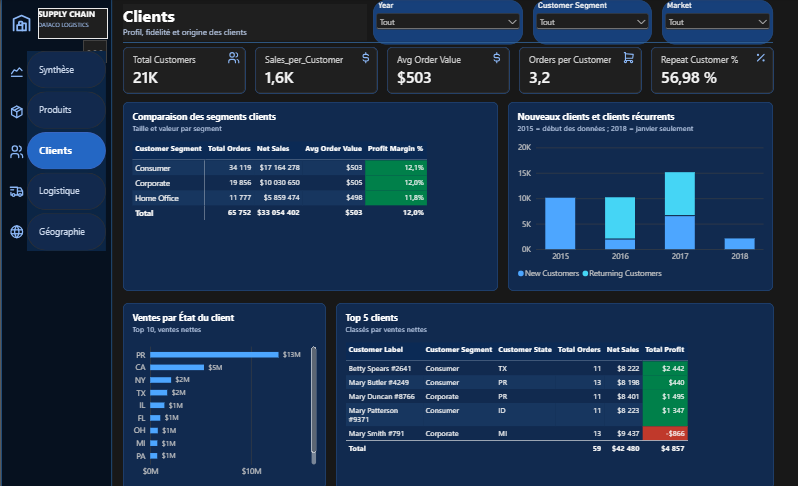

The dashboard page shown, as its layout file describes it:
{"tool":"powerbi","page":{"name":"Clients","canvas":[1440,900],"ordinal":2},"visuals":[{"type":"shape","box":[0,0,200,900],"z":0},{"type":"textbox","box":[66,18,126,56],"z":1000},{"type":"pageNavigator","box":[46,96,142,360],"z":2000},{"type":"textbox","box":[220,10,438.8,66],"z":4000},{"type":"image","box":[14,118,28,28],"z":4000},{"type":"image","box":[14,190,28,28],"z":4000},{"type":"image","box":[14,262,28,28],"z":4000},{"type":"image","box":[14,334,28,28],"z":4000},{"type":"image","box":[14,406,28,28],"z":4000},{"type":"slicer","title":"Marché","fields":{"Values":["Dim_Geography.Market"]},"box":[1189.8,4,200.2,80],"z":5000},{"type":"slicer","title":"Segment client","fields":{"Values":["Dim_Customer.Customer Segment"]},"box":[958,4,213.8,80],"z":6000},{"type":"slicer","title":"Année","fields":{"Values":["Dim_Date.Year"]},"box":[670,4,270,80],"z":7000},{"type":"cardVisual","fields":{"Data":["Dim_Customer.Orders per Customer"]},"box":[932.1,88,220.5,84],"z":8000},{"type":"cardVisual","fields":{"Data":["Fact_OrderItems.Avg Order Value"]},"box":[694.8,88,220.5,84],"z":9000},{"type":"cardVisual","fields":{"Data":["Fact_OrderItems.Sales_per_Customer"]},"box":[457.4,88,220.5,84],"z":10000},{"type":"cardVisual","fields":{"Data":["Dim_Customer.Repeat Customer %"]},"box":[1169.5,88,220.5,84],"z":11000},{"type":"cardVisual","fields":{"Data":["Fact_OrderItems.Total Customers"]},"box":[220,88,220.5,84],"z":12000},{"type":"shape","box":[220,80,1170,1],"z":12050},{"type":"pivotTable","title":"Comparaison des segments clients","fields":{"Rows":["Dim_Customer.Customer Segment"],"Values":["Fact_OrderItems.Total Orders","Fact_OrderItems.Net Sales","Fact_OrderItems.Avg Order Value","Fact_OrderItems.Profit Margin %"]},"box":[220,188,675,340],"z":13000},{"type":"clusteredBarChart","title":"Ventes par État du client","fields":{"Category":["Dim_Customer.Customer State"],"Y":["Fact_OrderItems.Net Sales"]},"box":[220,549.8,364.5,334.6],"z":14000},{"type":"columnChart","title":"Nouveaux clients et clients récurrents","fields":{"Category":["Dim_Date.Year"],"Y":["Dim_Customer.New Customers","Dim_Customer.Returning Customers"]},"box":[913,188,477,340],"z":15000},{"type":"tableEx","title":"Top 5 clients","fields":{"Values":["Dim_Customer.Customer Label","Dim_Customer.Customer Segment","Dim_Customer.Customer State","Fact_OrderItems.Total Orders","Fact_OrderItems.Net Sales","Fact_OrderItems.Total Profit"]},"box":[602.5,549.8,787.5,334.6],"z":16000},{"type":"image","box":[18,25,38,38],"z":25000},{"type":"image","box":[404.5,96,27,24],"z":25001},{"type":"image","box":[641.9,96,27,24],"z":25001},{"type":"image","box":[879.2,96,27,24],"z":25001},{"type":"image","box":[1116.6,96,27,24],"z":25001},{"type":"image","box":[1354,96,27,24],"z":25001}]}

Visuals, with their boxes on the page's 1440x900 design canvas (x1, y1, x2, y2). These are canvas units, not pixel positions in the 798x486 screenshot, which may show the page scaled, cropped or inside an application window:
shape: [x1=0, y1=0, x2=200, y2=900]
textbox: [x1=66, y1=18, x2=192, y2=74]
pageNavigator: [x1=46, y1=96, x2=188, y2=456]
textbox: [x1=220, y1=10, x2=659, y2=76]
image: [x1=14, y1=118, x2=42, y2=146]
image: [x1=14, y1=190, x2=42, y2=218]
image: [x1=14, y1=262, x2=42, y2=290]
image: [x1=14, y1=334, x2=42, y2=362]
image: [x1=14, y1=406, x2=42, y2=434]
"Marché" slicer: [x1=1190, y1=4, x2=1390, y2=84]
"Segment client" slicer: [x1=958, y1=4, x2=1172, y2=84]
"Année" slicer: [x1=670, y1=4, x2=940, y2=84]
cardVisual - Dim_Customer.Orders per Customer: [x1=932, y1=88, x2=1153, y2=172]
cardVisual - Fact_OrderItems.Avg Order Value: [x1=695, y1=88, x2=915, y2=172]
cardVisual - Fact_OrderItems.Sales_per_Customer: [x1=457, y1=88, x2=678, y2=172]
cardVisual - Dim_Customer.Repeat Customer %: [x1=1170, y1=88, x2=1390, y2=172]
cardVisual - Fact_OrderItems.Total Customers: [x1=220, y1=88, x2=440, y2=172]
shape: [x1=220, y1=80, x2=1390, y2=81]
"Comparaison des segments clients" pivotTable: [x1=220, y1=188, x2=895, y2=528]
"Ventes par État du client" clusteredBarChart: [x1=220, y1=550, x2=584, y2=884]
"Nouveaux clients et clients récurrents" columnChart: [x1=913, y1=188, x2=1390, y2=528]
"Top 5 clients" tableEx: [x1=602, y1=550, x2=1390, y2=884]
image: [x1=18, y1=25, x2=56, y2=63]
image: [x1=404, y1=96, x2=432, y2=120]
image: [x1=642, y1=96, x2=669, y2=120]
image: [x1=879, y1=96, x2=906, y2=120]
image: [x1=1117, y1=96, x2=1144, y2=120]
image: [x1=1354, y1=96, x2=1381, y2=120]
